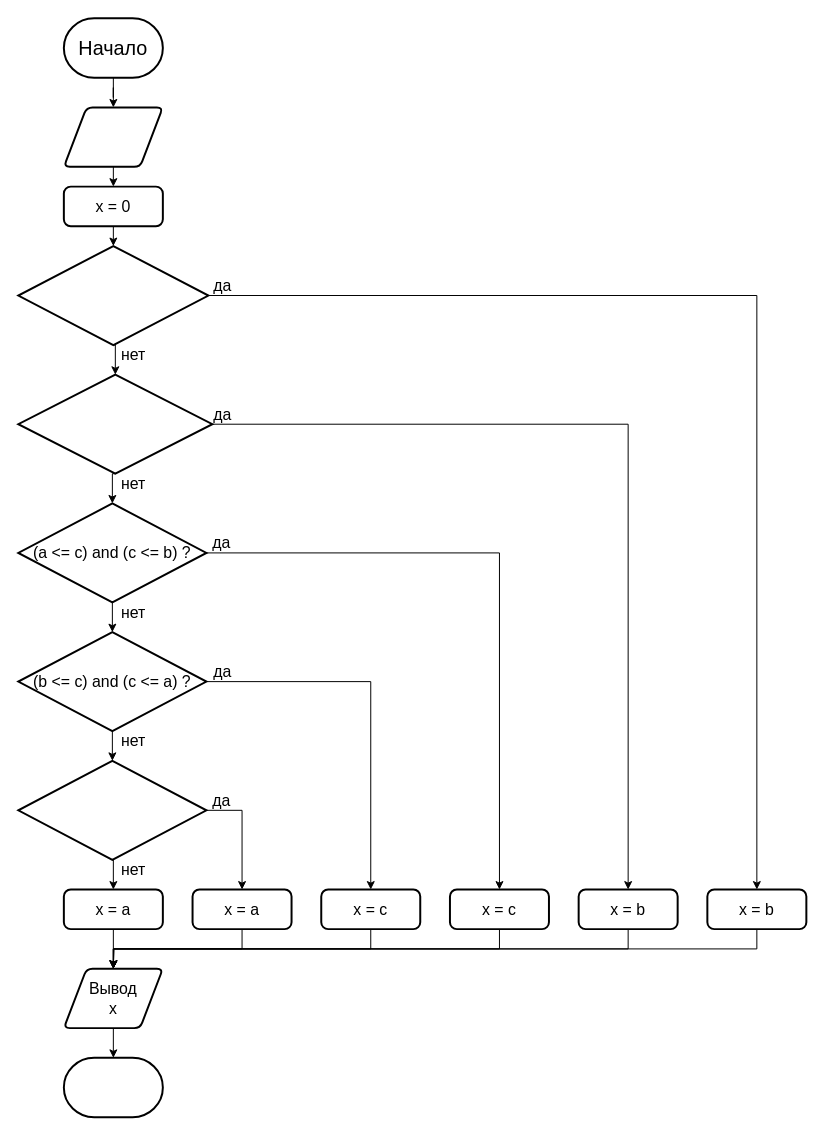
Some shapes in this 824 by 1135 pixel diagram are drawn without their labels. Here are the shapes that lost their labels. From the top down, the box of each, then its label:
(62, 106, 163, 167): Ввод a, b, c
(17, 245, 209, 346): (a <= b) and (b <= c) ?
(17, 373, 213, 474): (c <= b) and (b <= a) ?
(17, 759, 207, 860): (b <= a) and (a <= c) ?
(62, 1056, 163, 1118): Конец
